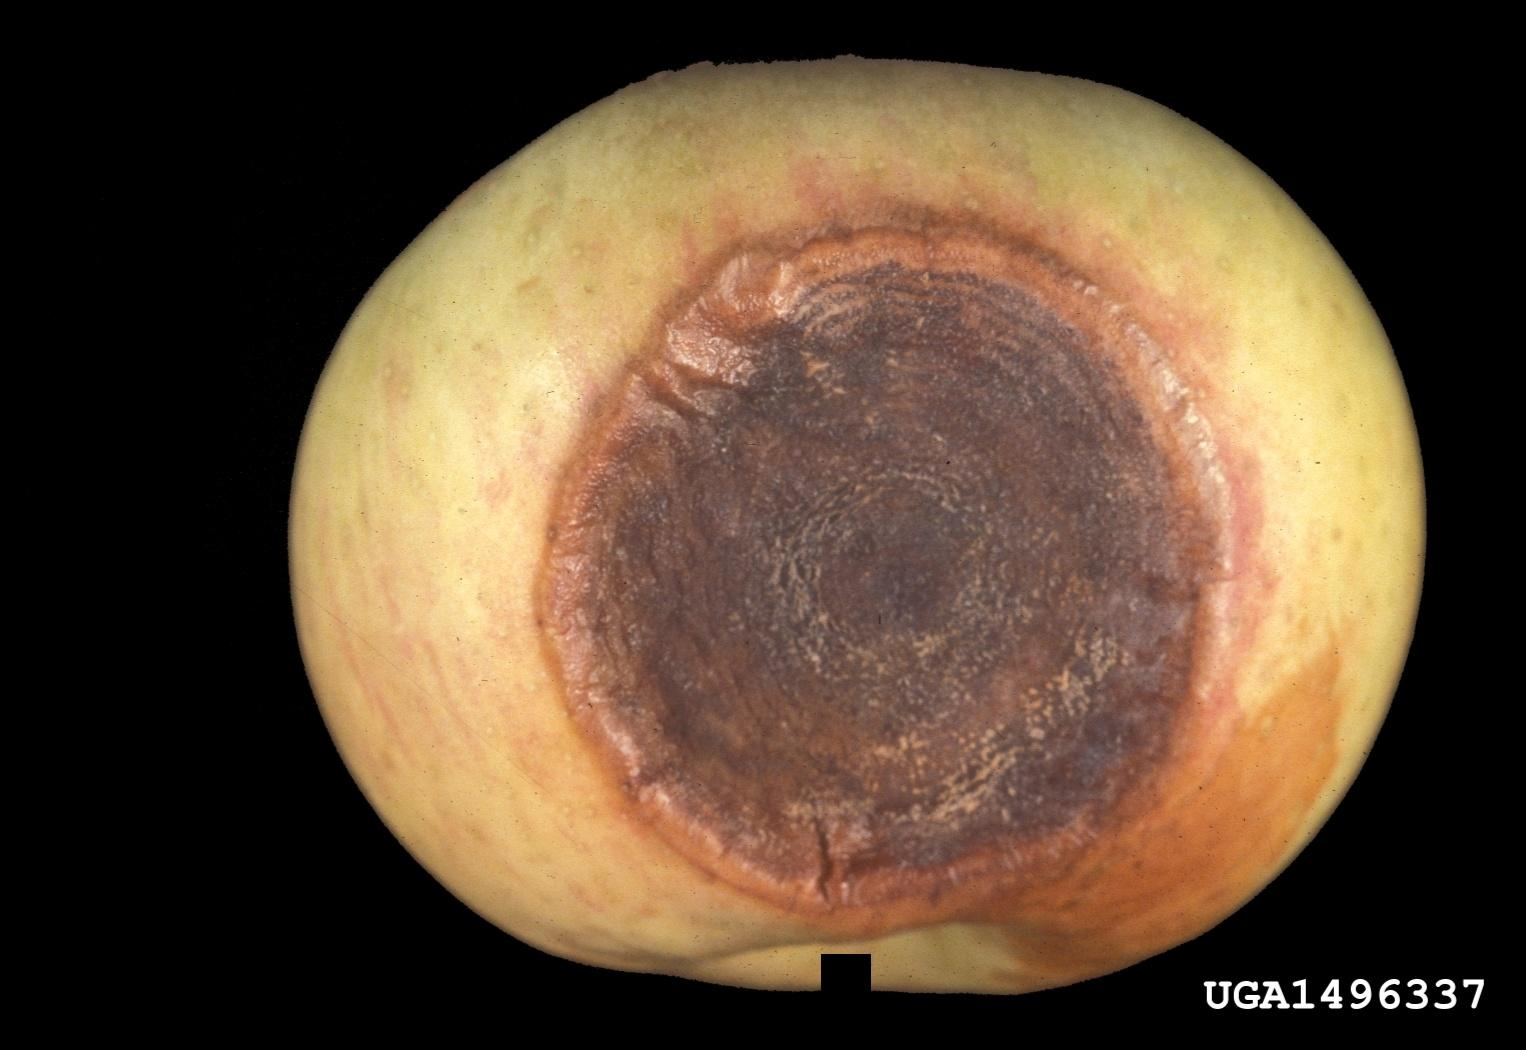rotten apple: (276, 57, 1429, 998)
